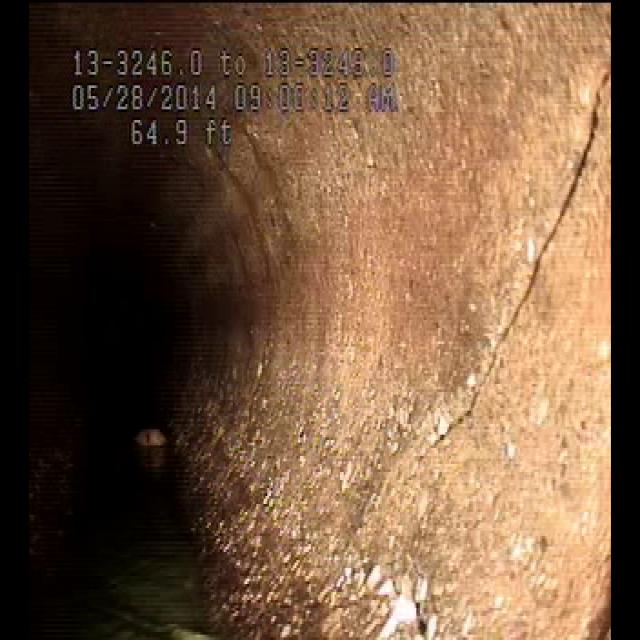Crack: (362, 134, 600, 560)
